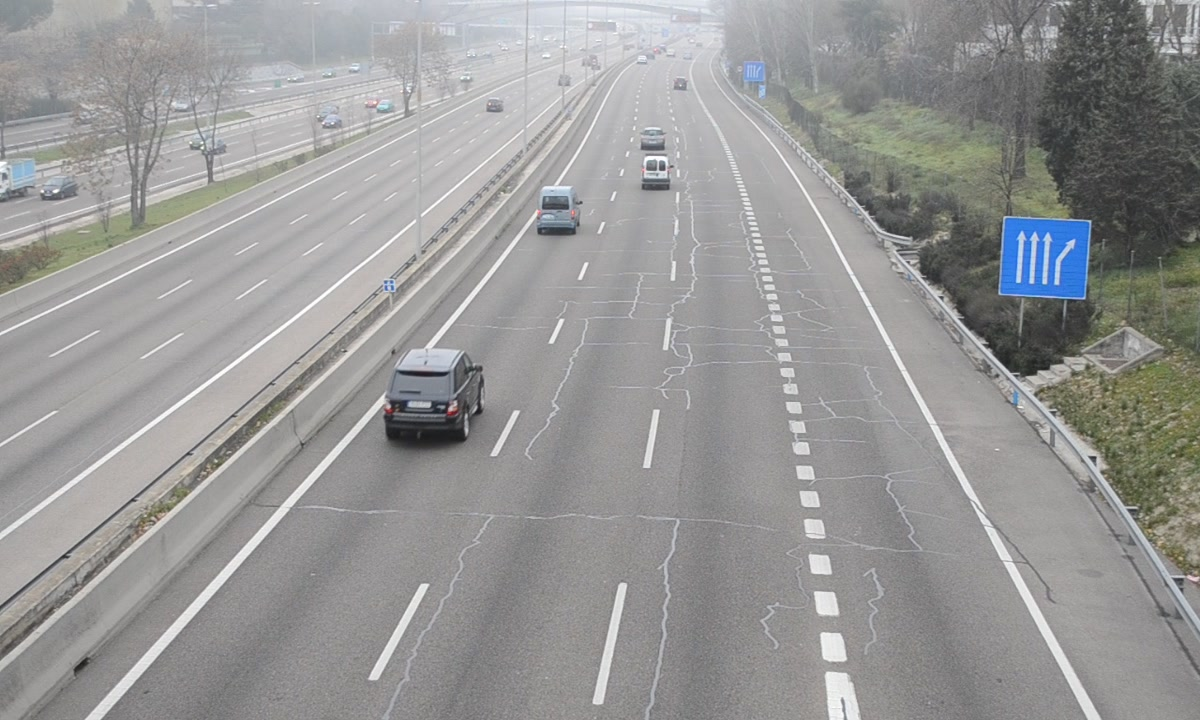car: (387, 348, 485, 434)
van: (538, 185, 579, 233), (641, 153, 669, 189)
